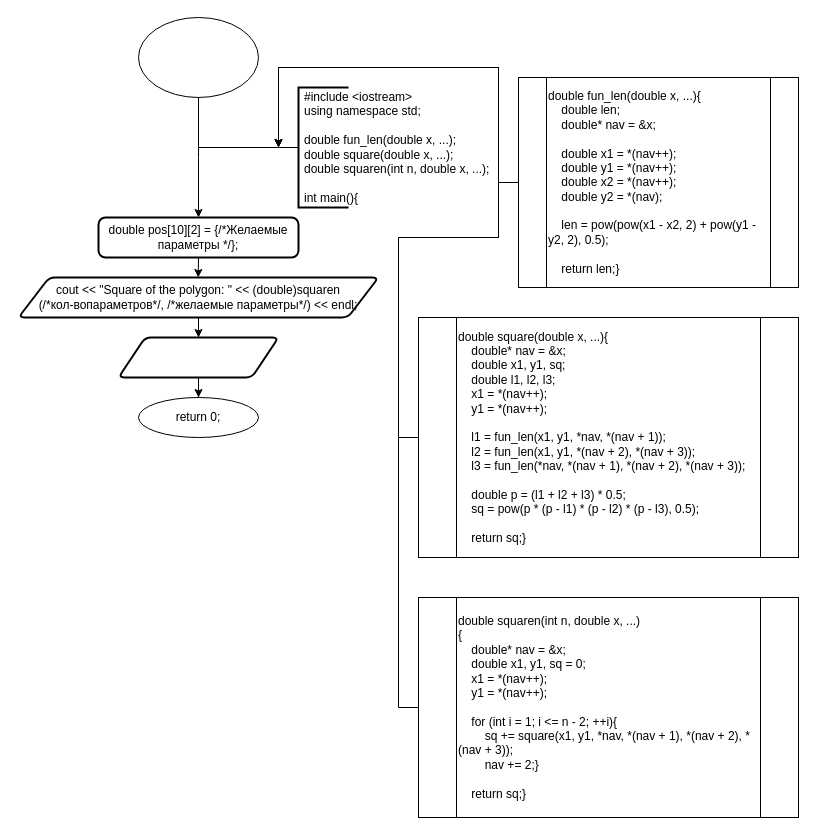
Some shapes in this 816 by 835 pixel diagram are drawn without their labels. Each missing label, with the centre of its shape:
start: (x=198, y=57)
system("pause");: (x=198, y=357)
